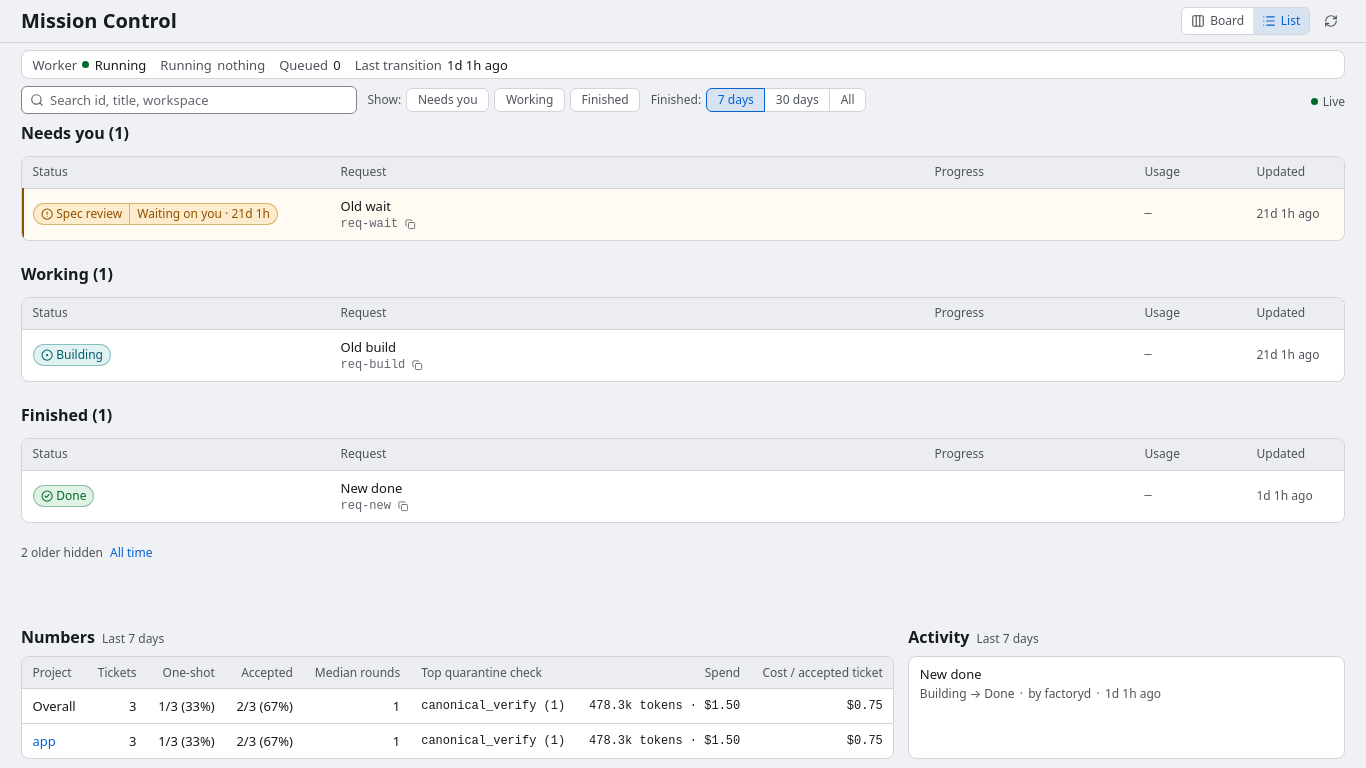
the window on finished work › the List view's Finished section follows the window; the other sections do not
This screenshot has width=1366, height=768.
expect the heading "Finished (1)" is shown: met, box [21,403,112,427]
expect the heading "Needs you (1)" is shown: met, box [21,121,129,145]
Click the button "All time" at (131, 553), box [110,544,152,562]
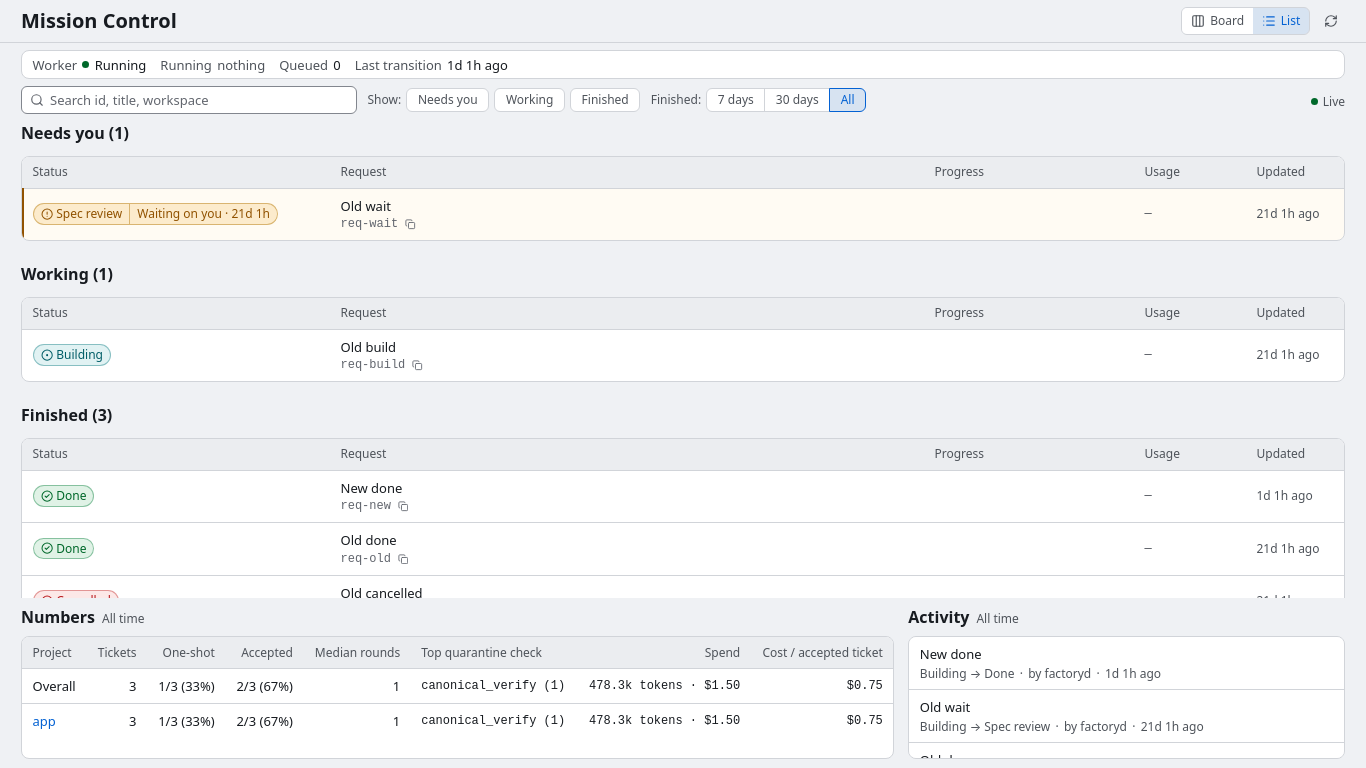
expect the heading "Finished (3)" is shown: met, box [21,403,112,427]
expect the row with test id "request-req-old" is shown: met, box [22,522,1344,575]
